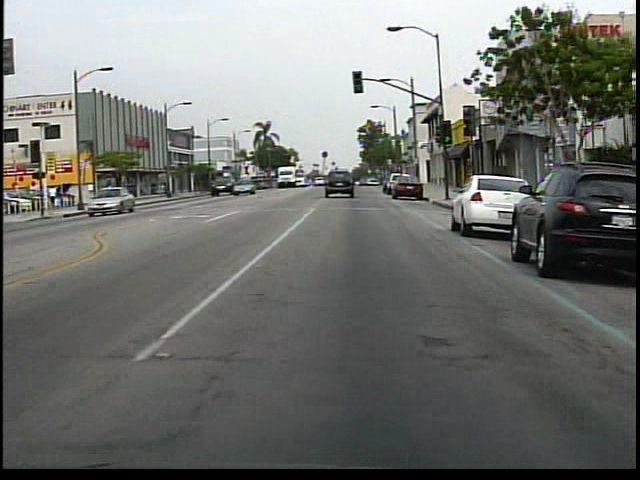person: (49, 182, 61, 211)
